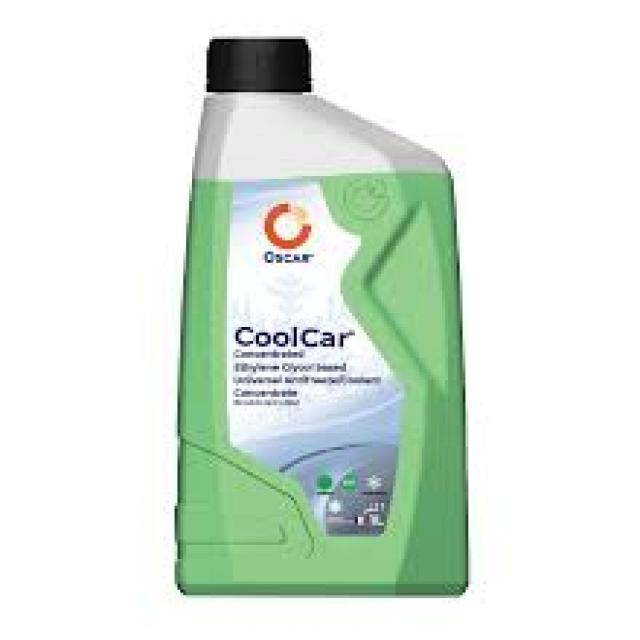coolant: (169, 28, 476, 603)
